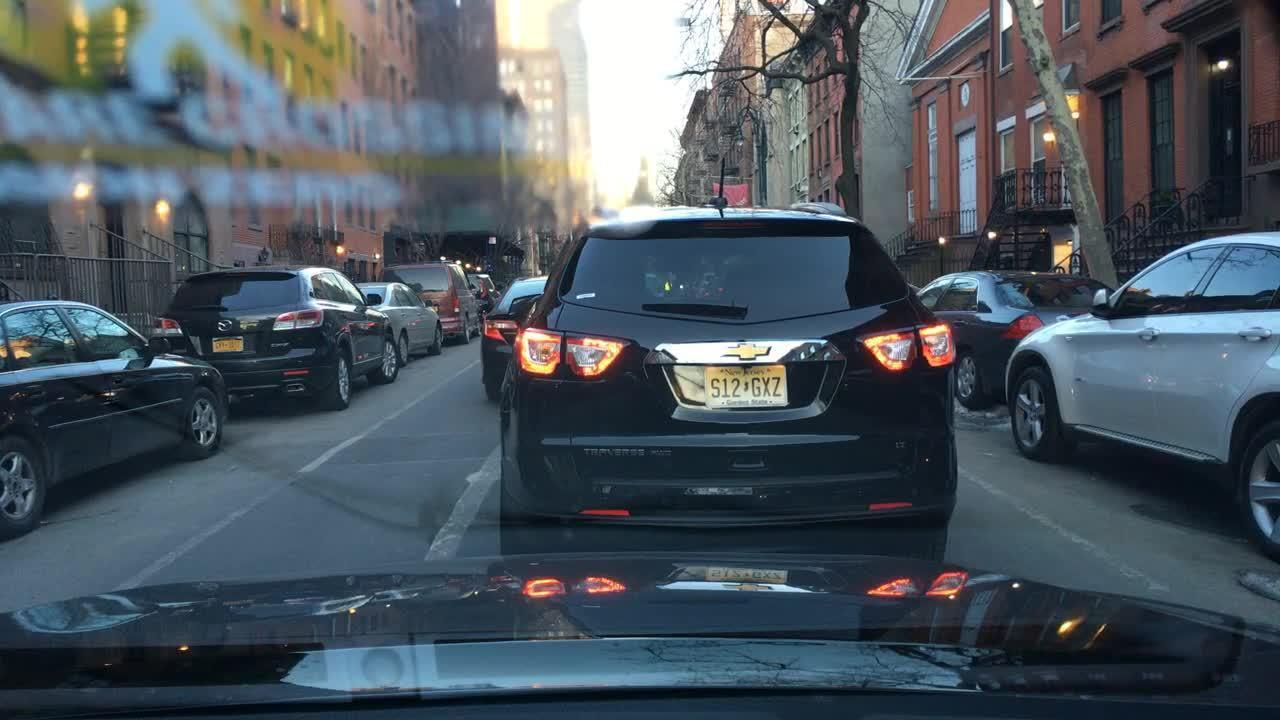Mazda: (212, 315, 236, 334)
chevrolet: (717, 329, 786, 375)
